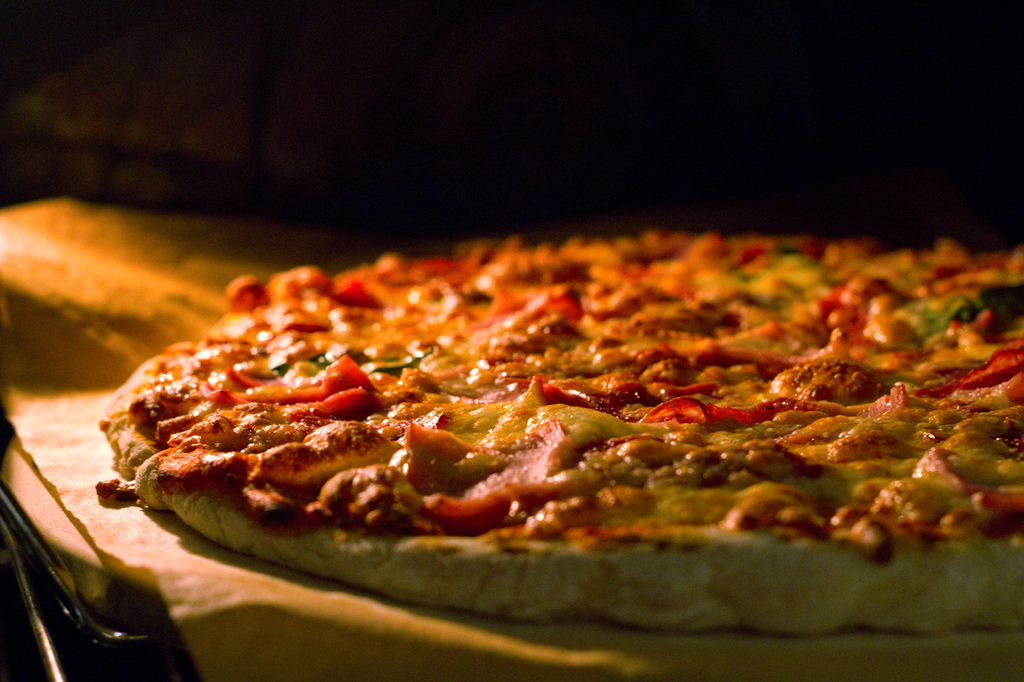Pizza: (92, 231, 1023, 635)
